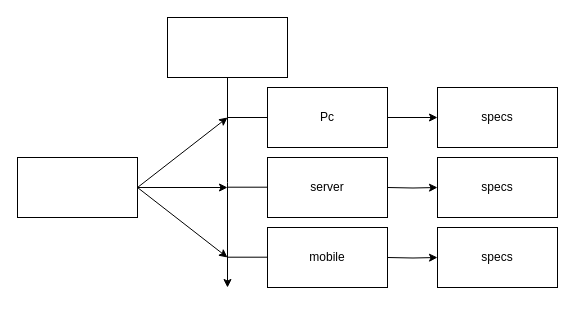
Some shapes in this 575 by 313 pixel diagram are drawn without their labels. The centre of each missing label's shape, as x and y in pixels:
"categorie" belongs at (x=227, y=47).
"utenti" belongs at (x=77, y=187).
